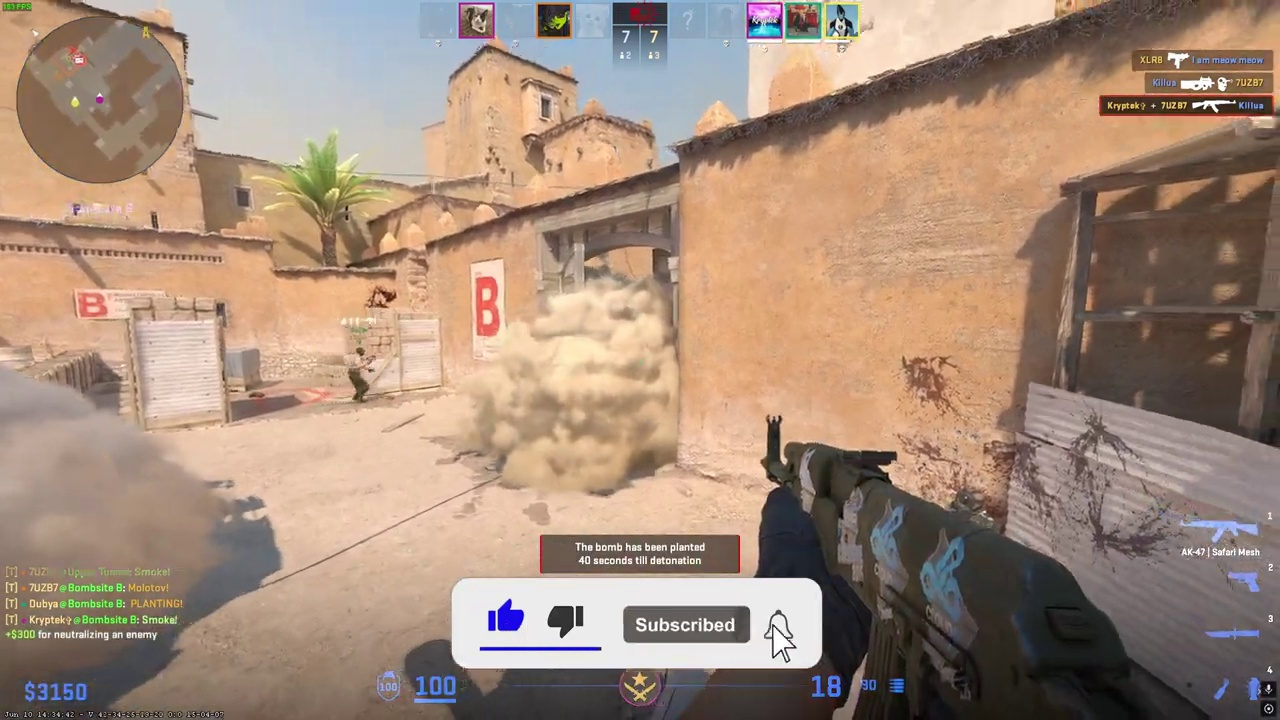Terrorist: (348, 347, 371, 403)
